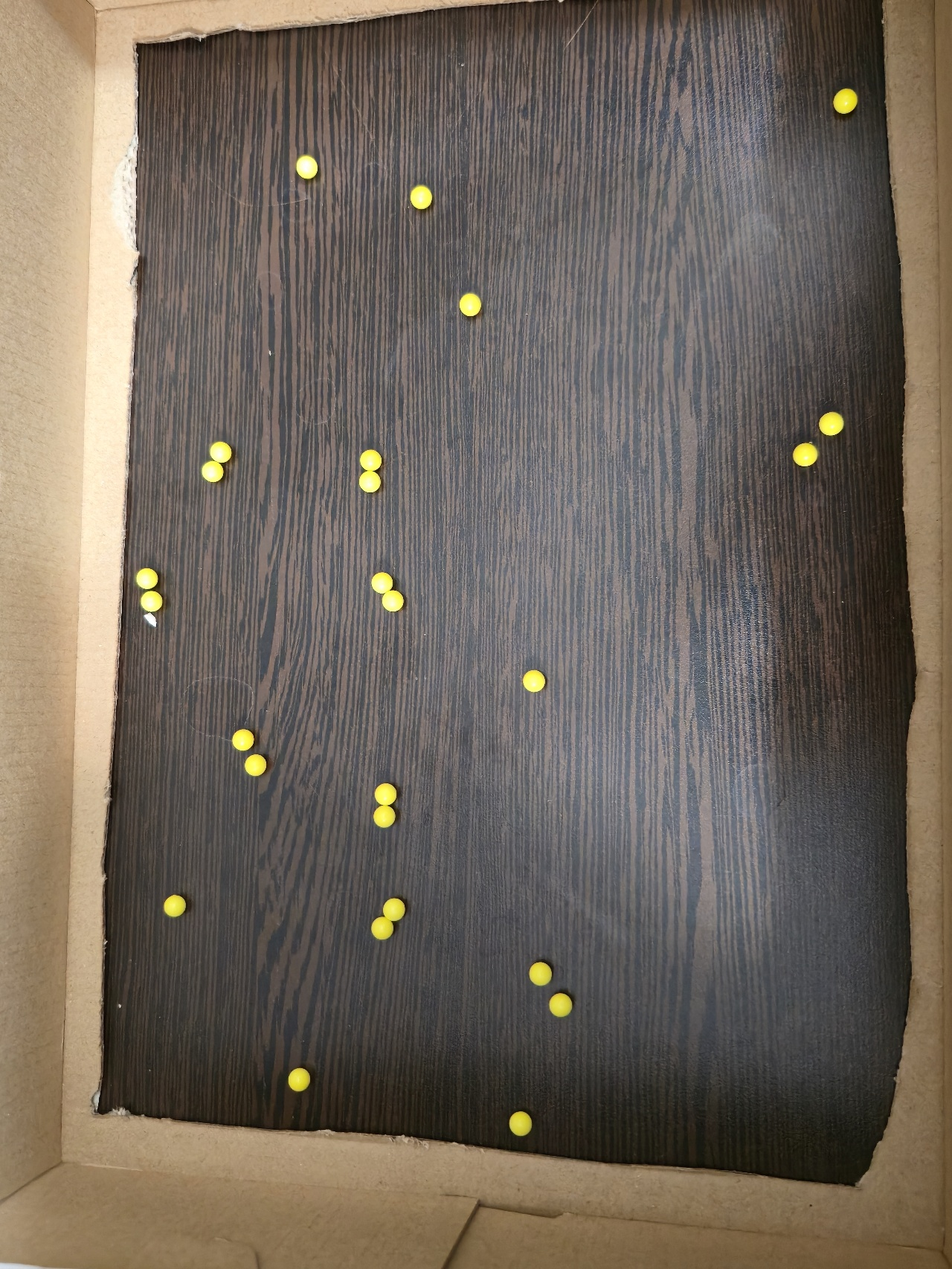yellow_bead: (799, 449, 813, 461), (825, 418, 838, 430), (416, 190, 427, 204), (555, 1000, 567, 1012), (535, 968, 547, 980), (465, 298, 476, 311), (515, 1119, 526, 1131), (376, 923, 388, 934), (388, 904, 399, 916), (529, 675, 540, 687), (364, 476, 376, 487), (379, 812, 390, 823), (380, 789, 391, 800), (364, 455, 376, 465), (214, 447, 226, 457), (170, 901, 181, 911), (250, 760, 260, 771), (387, 596, 398, 606), (376, 578, 387, 588), (141, 574, 152, 584), (237, 736, 248, 745), (146, 597, 157, 606), (207, 466, 218, 475), (294, 1074, 303, 1082), (839, 99, 845, 108)
